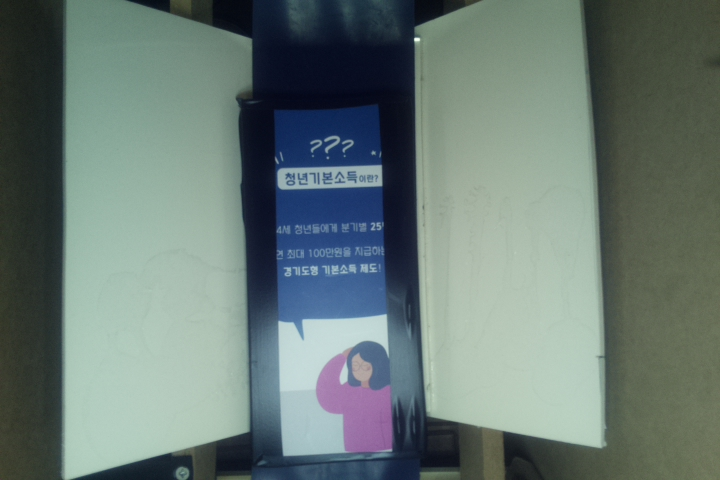book: (236, 89, 426, 467)
